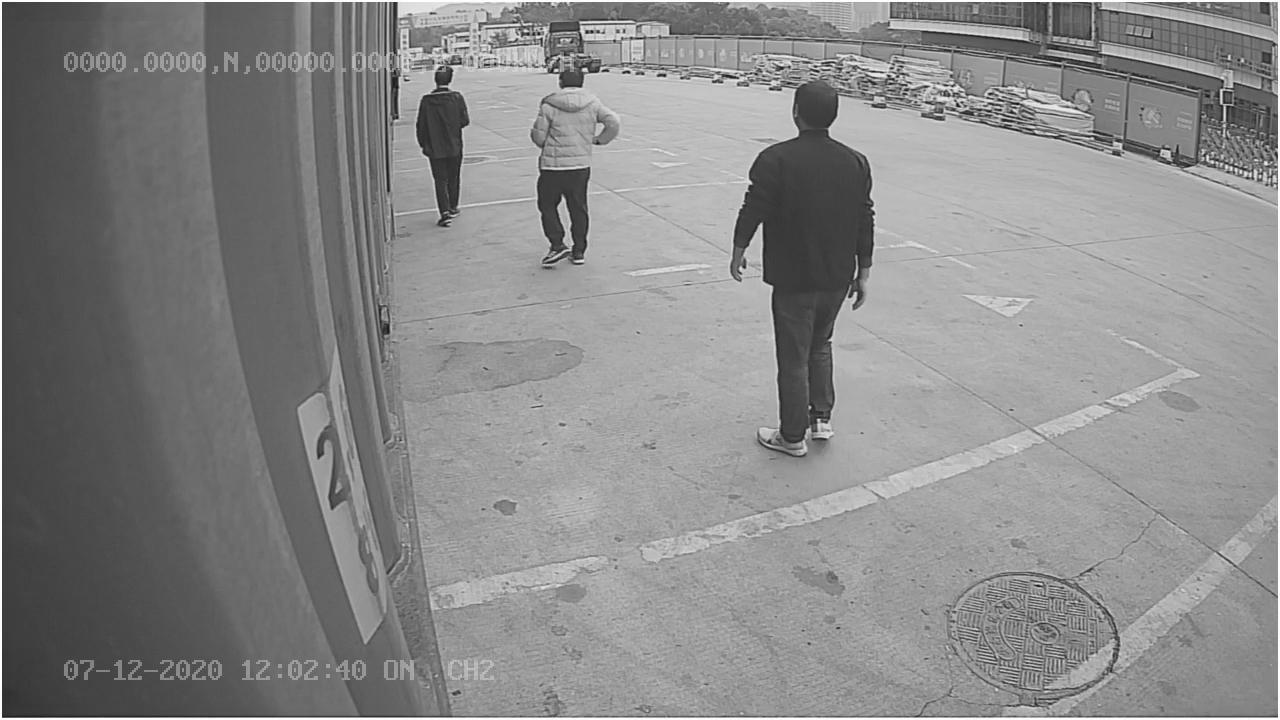person: (731, 79, 879, 456)
